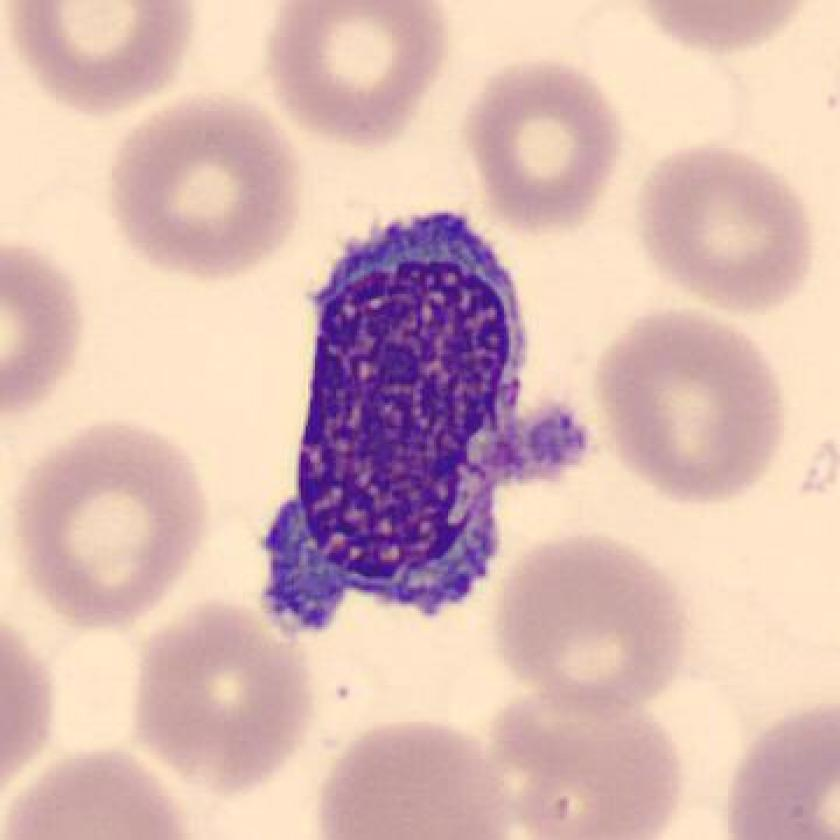monocyte: (239, 186, 603, 670)
